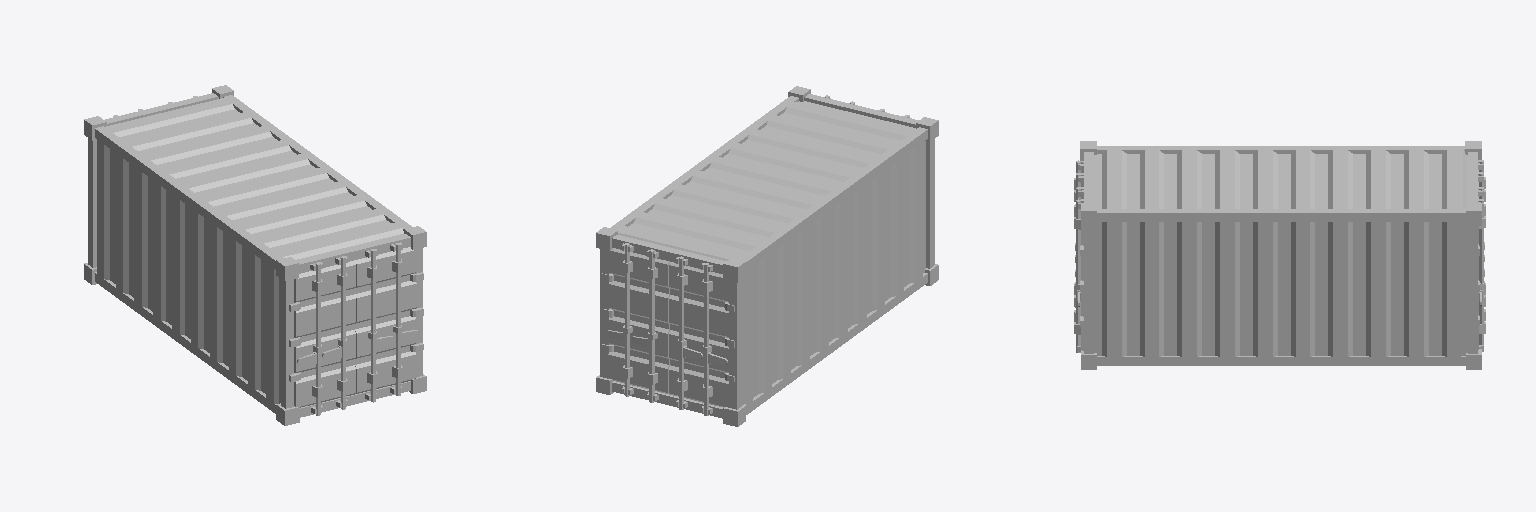
File: container_001.obj
3 views of the same model, side by side, from view 1: azimuth 30°, elevation 25°; view 2: azimuth 150°, elevation 25°; view 3: azimuth 270°, elevation 25° (orthographic).
Visible parts, largest first — view 1: container_001; view 2: container_001; view 3: container_001.
Boxes of the visible parts, x1,y1,x2,y2 form: container_001: [84, 85, 426, 425]; container_001: [596, 86, 938, 426]; container_001: [1074, 141, 1485, 369].
Size of the model in its own units: 2.53 by 2.7 by 6.29.